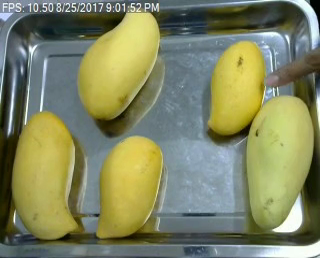Mango: (74, 2, 163, 123), (242, 96, 318, 224), (14, 107, 82, 241), (95, 133, 167, 243), (204, 39, 266, 139)
